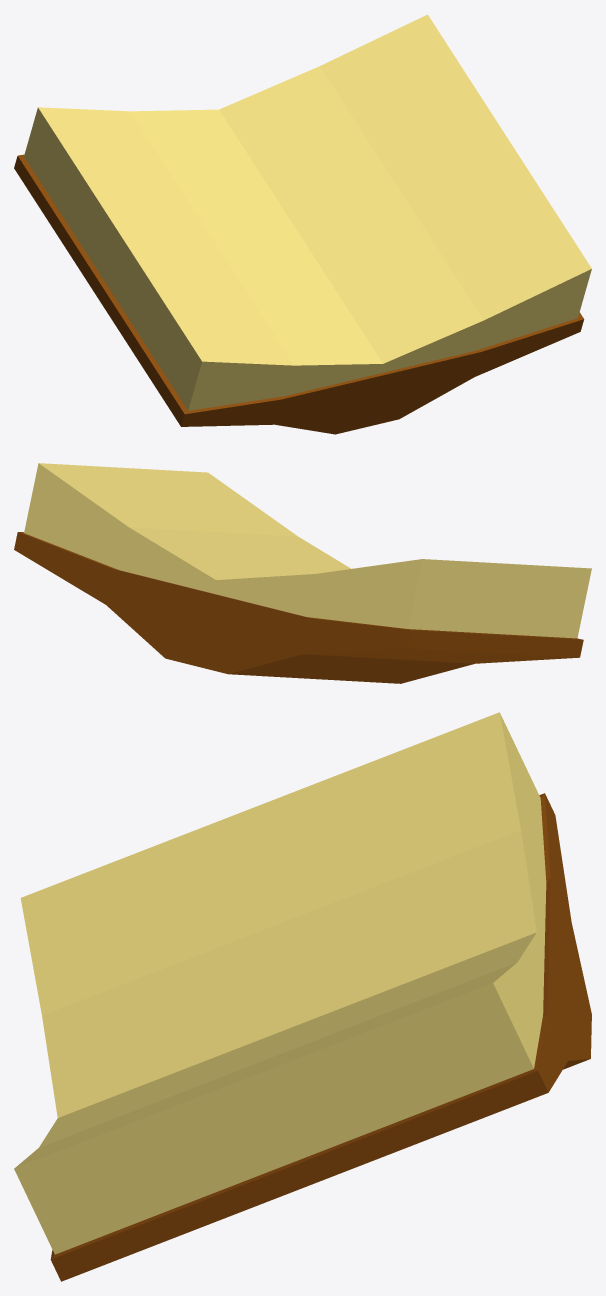
File: spellbook.fbx
3 renders of one model, top to bottom at view 1: azimuth 30°, elevation 25°; view 2: azimuth 150°, elevation 25°; view 3: azimuth 270°, elevation 25°, orthographic. The views are drawn at different scales.
Visible parts, largest first — view 1: Cube.002; view 2: Cube.002; view 3: Cube.002.
Part boxes in pixels (<box>): Cube.002: <box>14,14,591,434</box>; Cube.002: <box>14,463,591,683</box>; Cube.002: <box>14,712,591,1281</box>.
Bounding box in the file's own units: 504 × 319 × 440.
